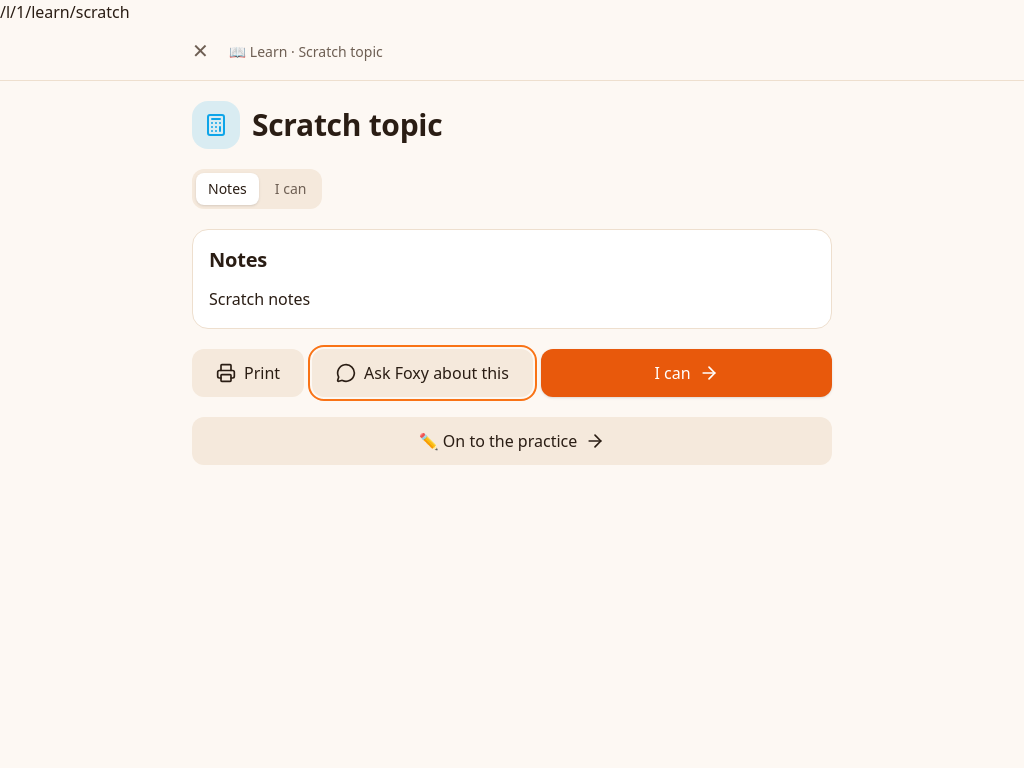
Test: Ask Foxy keeps the mounted exercise › study help also returns to the same study screen
Expected: the text "Scratch notes" is shown, [209,288,310,310]
Click the button "Ask Foxy about this" at [422, 373], box [312,349,533,397]
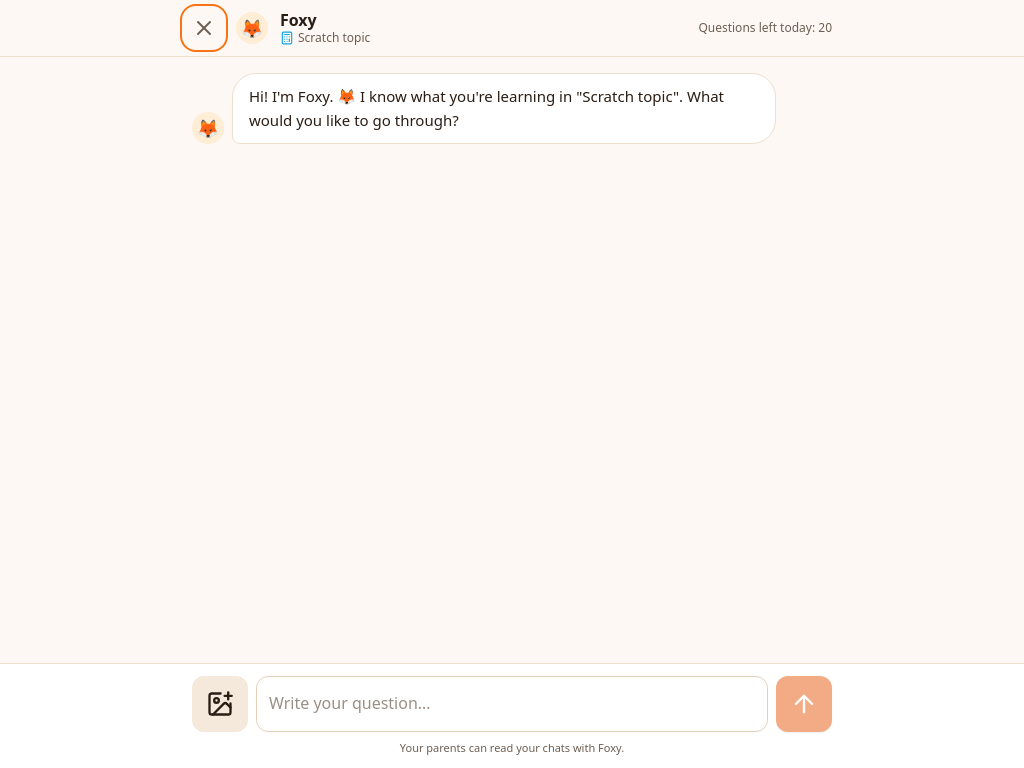
Click the button named "Back" at [204, 28], box [184,8,224,48]
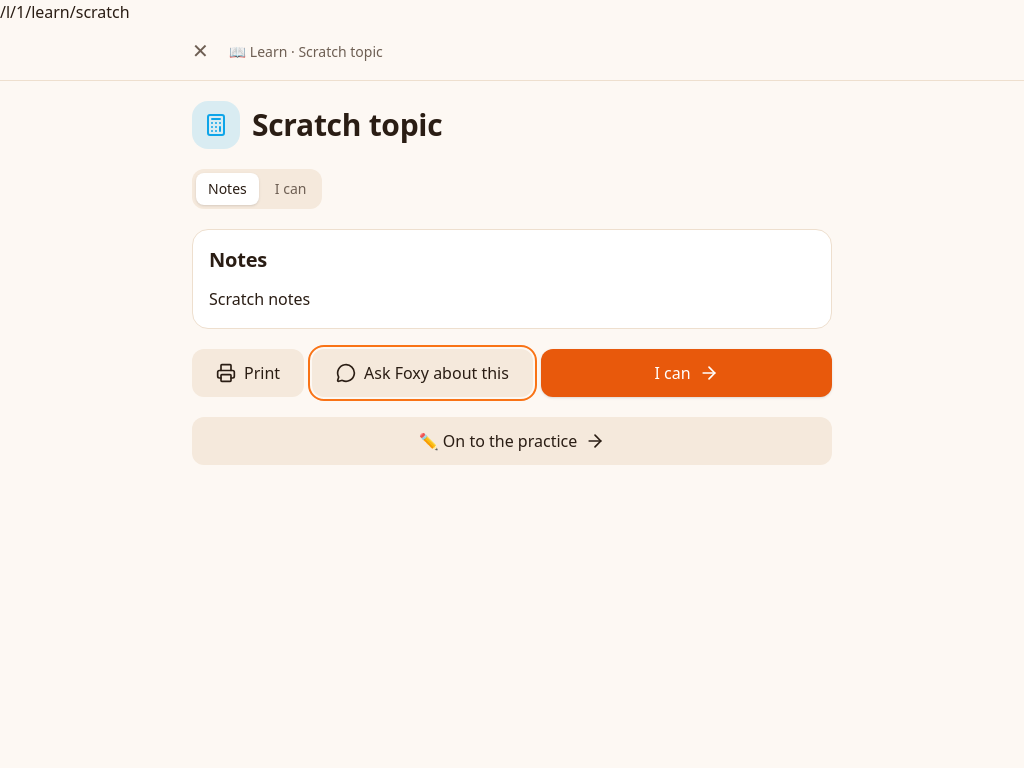
Expected: the text with test id "location" reads "/l/1/learn/scratch", [0,1,130,23]
Result: the dialog is gone
Click the button "Ask Foxy about this" at [422, 373], box [312,349,533,397]
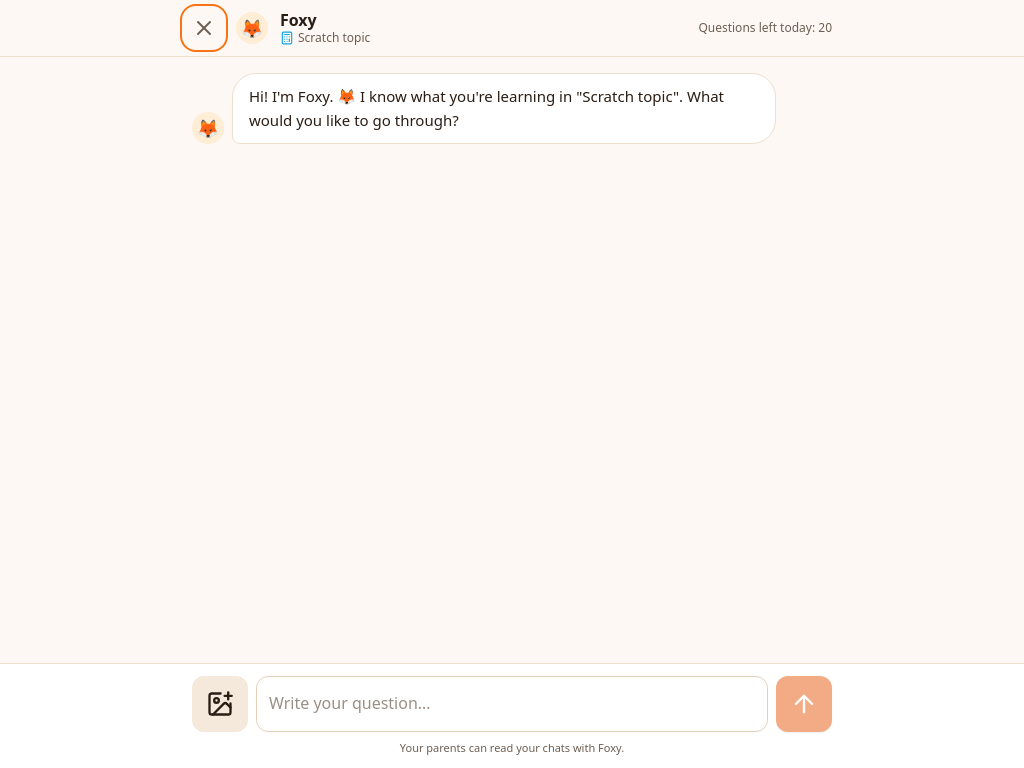
Click the button named "Back" at [204, 28], box [184,8,224,48]
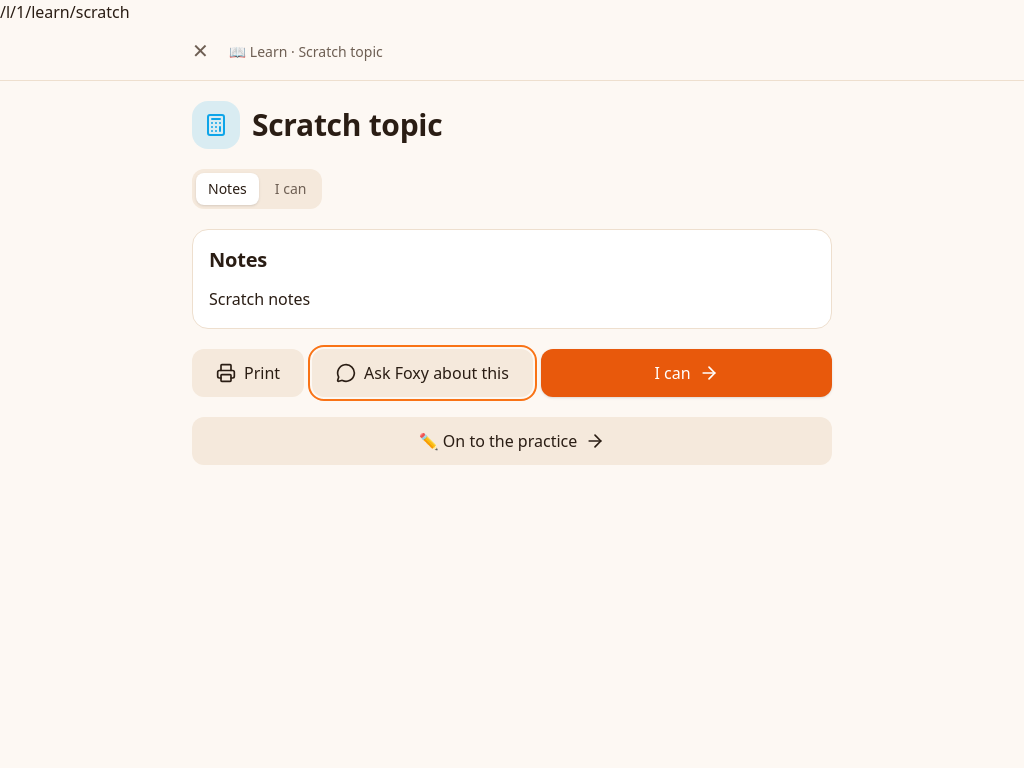
Expected: the text with test id "location" reads "/l/1/learn/scratch", [0,1,130,23]
Result: the dialog is gone
